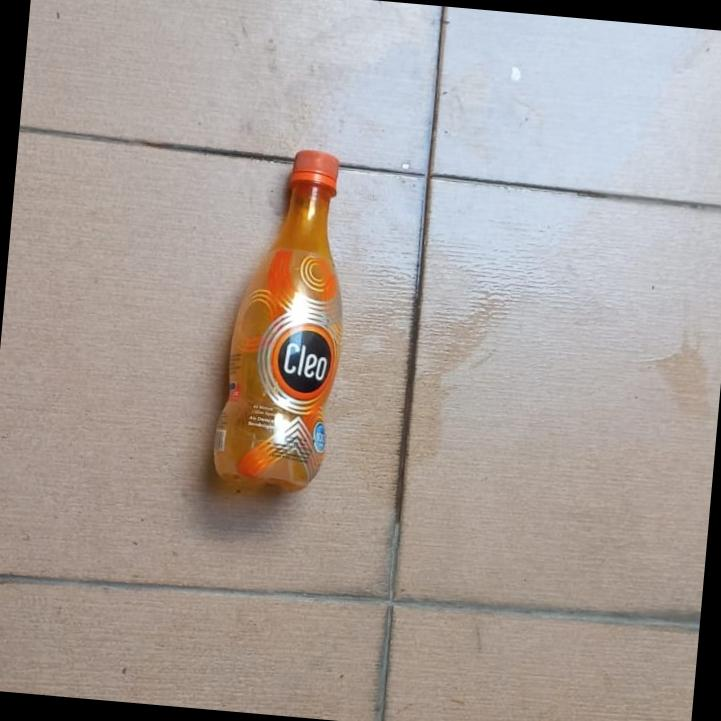Plastik: (210, 142, 360, 494)
